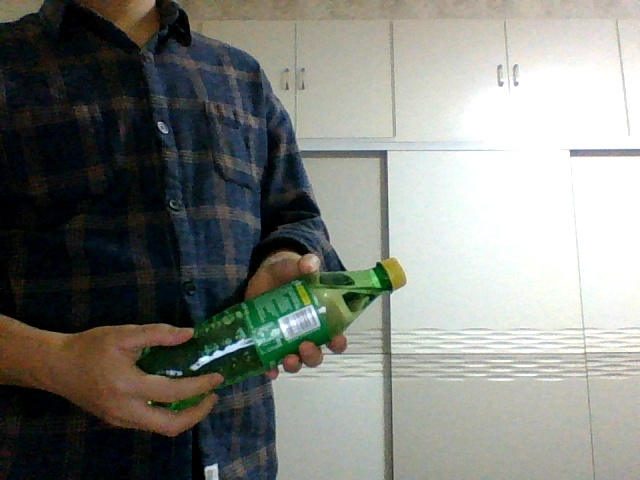Sprite: (139, 257, 406, 417)
